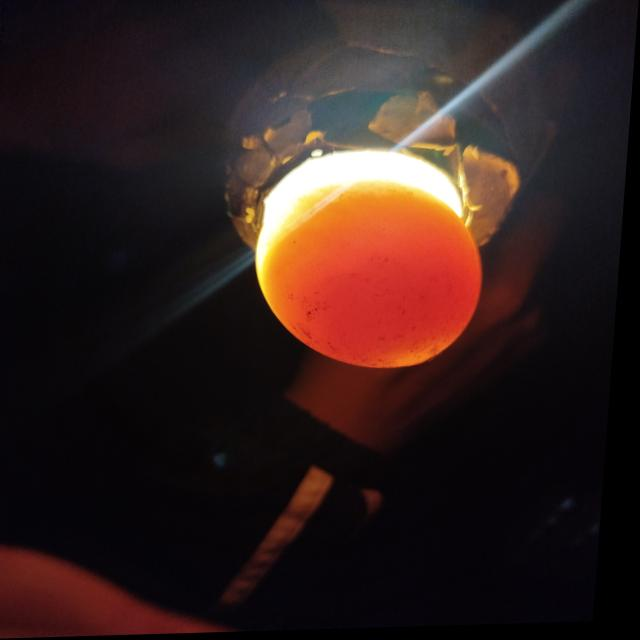Gema Quebrada: (271, 192, 487, 370)
